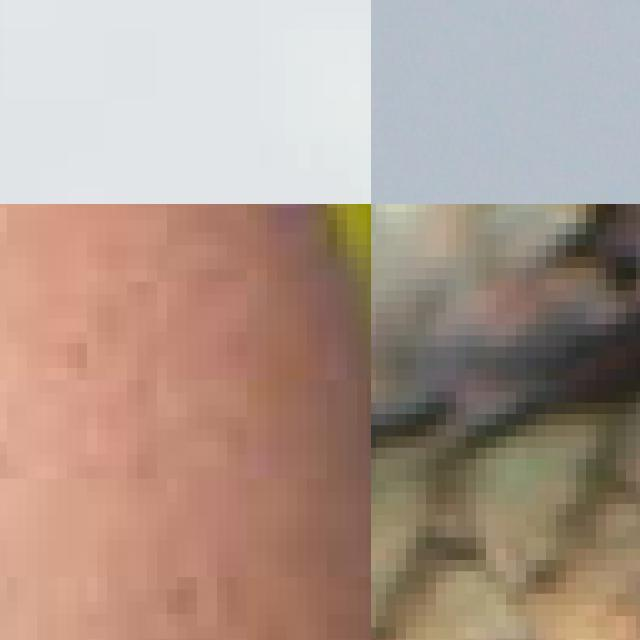fish: (371, 204, 640, 640), (0, 0, 371, 204)
